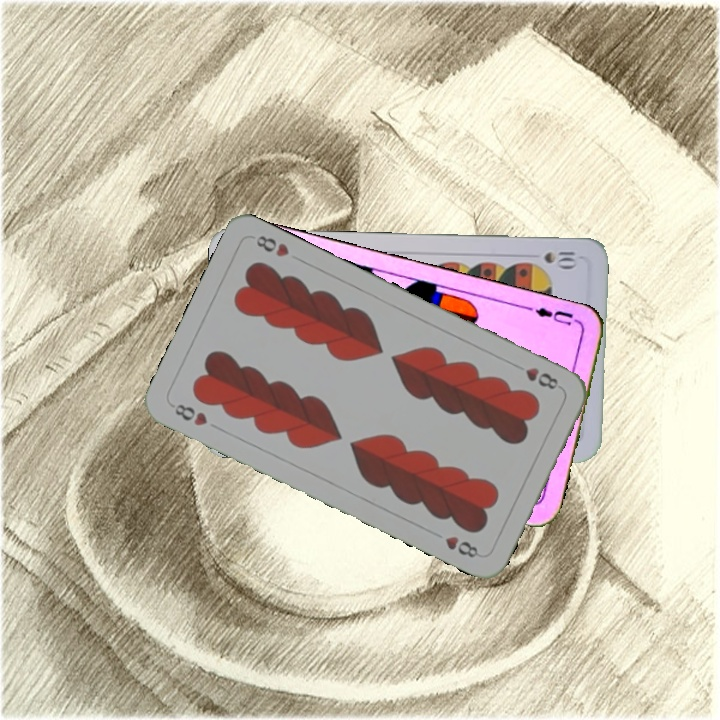EU: (531, 303, 582, 329)
H8: (509, 359, 561, 392), (167, 399, 210, 429)
S10: (540, 247, 579, 270)
